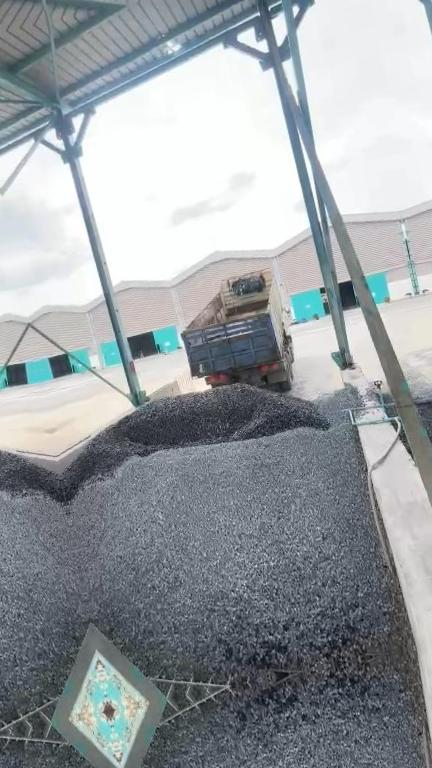gravel: (61, 381, 413, 685), (405, 370, 432, 440)
